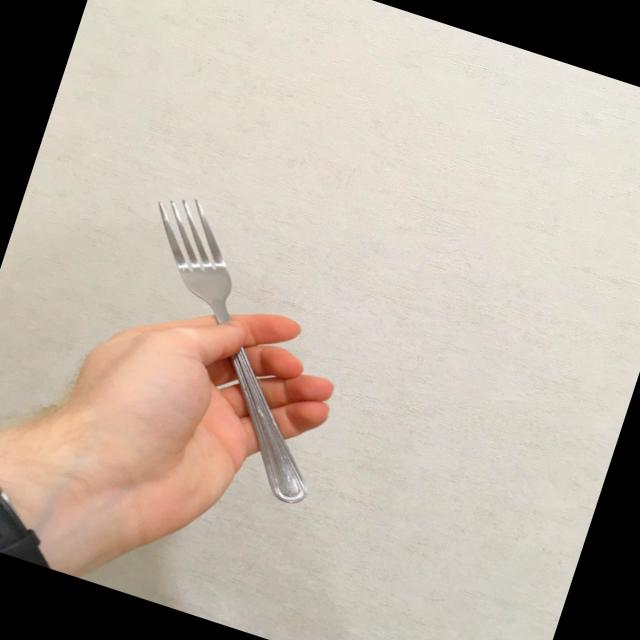fork: (81, 187, 386, 509)
